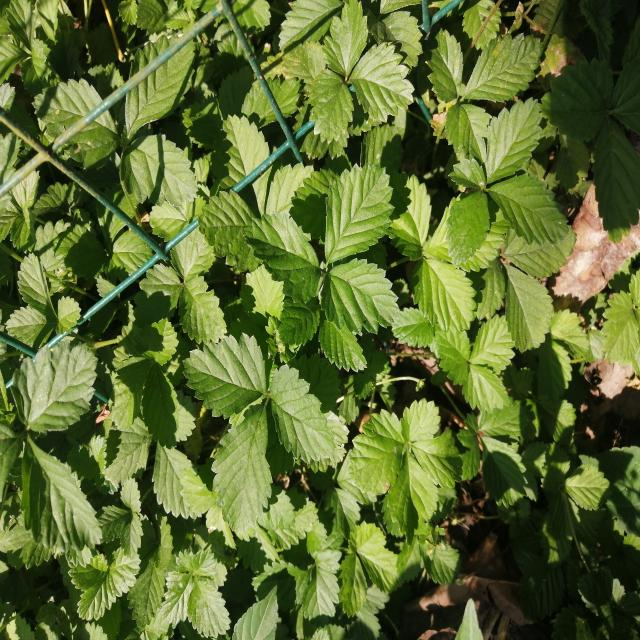Mock_strawberry: (236, 157, 417, 364), (422, 116, 569, 337), (188, 336, 343, 526)
